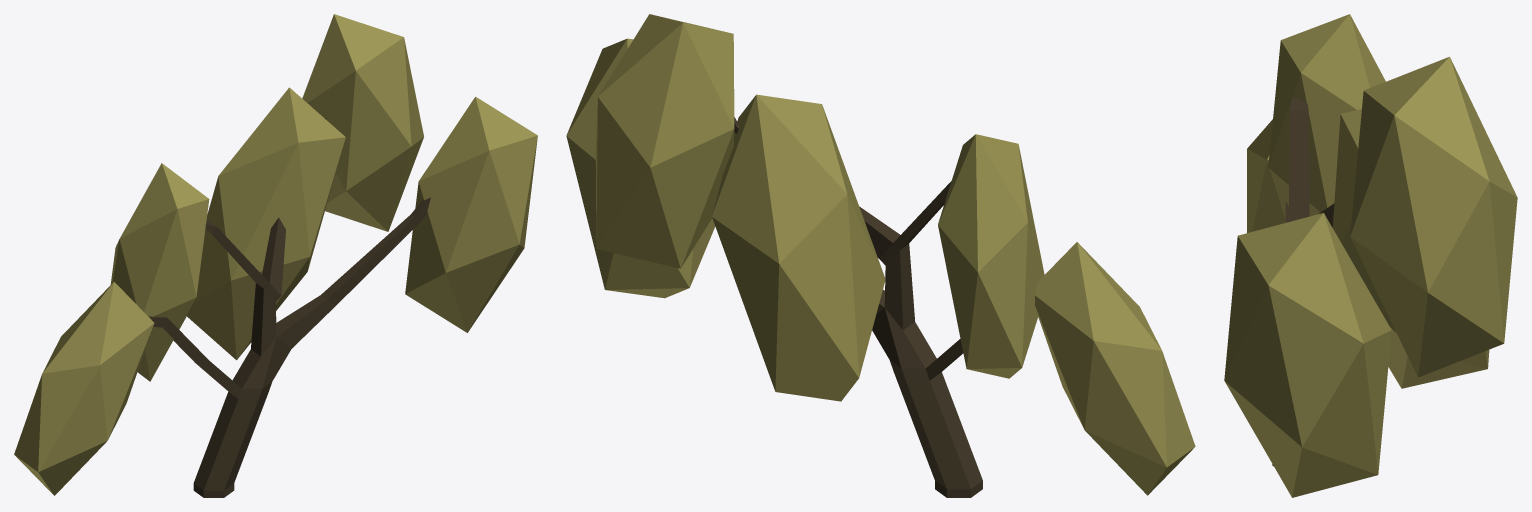
File: 002_ヤナギ.fbx
3 renders of one model, left to right at view 1: azimuth 30°, elevation 25°; view 2: azimuth 150°, elevation 25°; view 3: azimuth 270°, elevation 25°, orthographic. The views are drawn at different scales.
Visible parts, largest first — view 1: ICO球.004, ICO球.002, ICO球.003, ICO球, 円柱, ICO球.001; view 2: ICO球.004, ICO球.003, ICO球, ICO球.001, 円柱, ICO球.002; view 3: ICO球.003, ICO球.002, ICO球.001, ICO球.004, ICO球, 円柱.
Part boxes in pixels (box(x1,y1,x2,y2)): ICO球.004: box(187, 87, 345, 360); ICO球.002: box(405, 96, 537, 332); ICO球.003: box(302, 14, 423, 231); ICO球: box(14, 282, 154, 495); 円柱: box(148, 118, 430, 497); ICO球.001: box(110, 163, 209, 381); ICO球.004: box(712, 94, 885, 401); ICO球.003: box(595, 14, 734, 268); ICO球: box(1035, 242, 1195, 495); ICO球.001: box(938, 134, 1044, 378); 円柱: box(734, 117, 982, 497); ICO球.002: box(566, 38, 715, 298); ICO球.003: box(1350, 56, 1517, 377); ICO球.002: box(1224, 213, 1391, 497); ICO球.001: box(1268, 14, 1385, 216); ICO球.004: box(1332, 109, 1489, 388); ICO球: box(1247, 119, 1285, 232); 円柱: box(1272, 97, 1334, 466).
Size of the model in its own units: 853 by 639 by 324.
